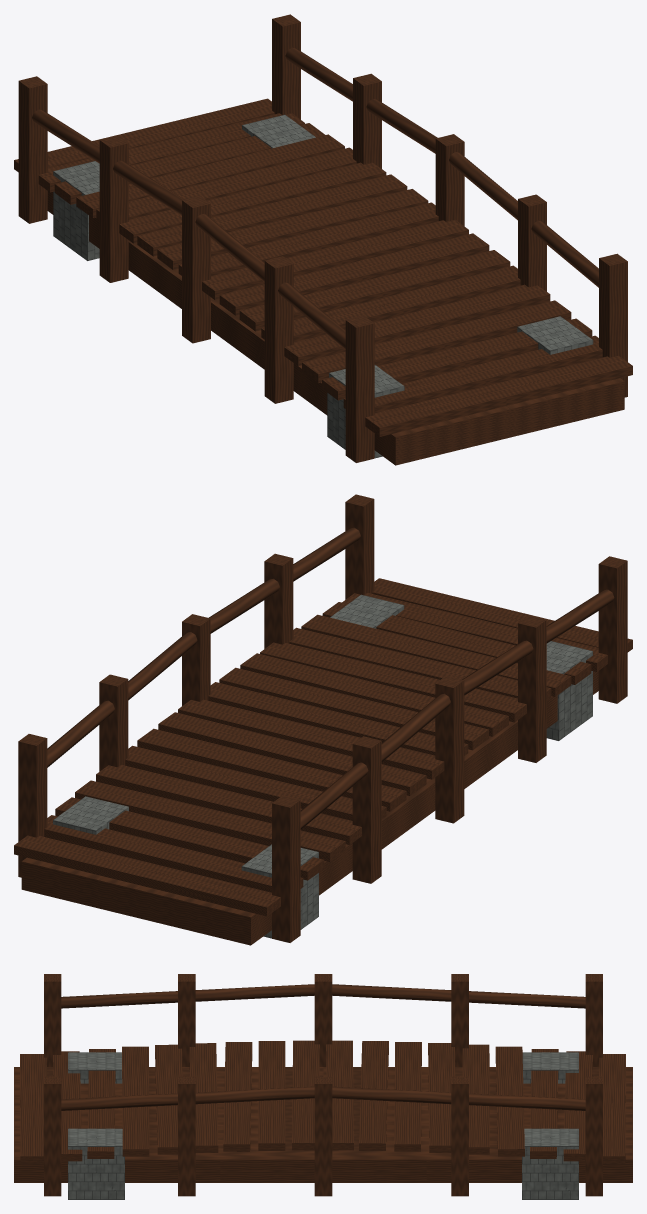
Rendered from bridge_v4.obj.
3 views of the same model, one above another, from view 1: azimuth 30°, elevation 25°; view 2: azimuth 150°, elevation 25°; view 3: azimuth 270°, elevation 25° (orthographic). The views are drawn at different scales.
Visible parts, largest first — view 1: bridge_v4; view 2: bridge_v4; view 3: bridge_v4.
Boxes of the visible parts, left/top/right/bottom form: bridge_v4: left=14, top=14, right=632, bottom=465; bridge_v4: left=14, top=494, right=632, bottom=945; bridge_v4: left=14, top=974, right=632, bottom=1199.
Bounding box in the file's own units: 5.04 × 2.65 × 12.
Materials: 3 (3 with a texture image).
